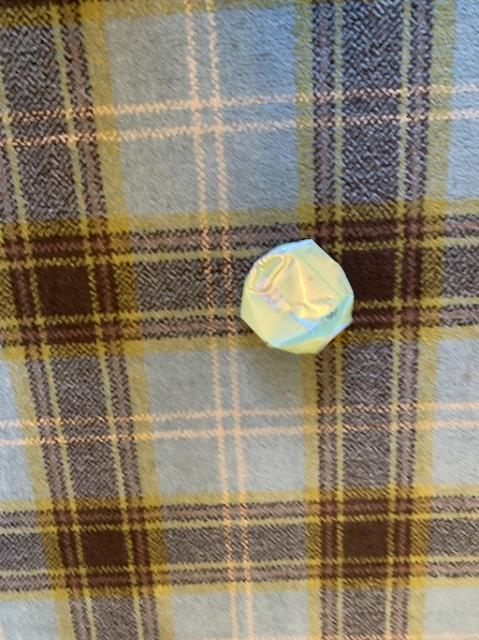metal: (240, 238, 352, 352)
